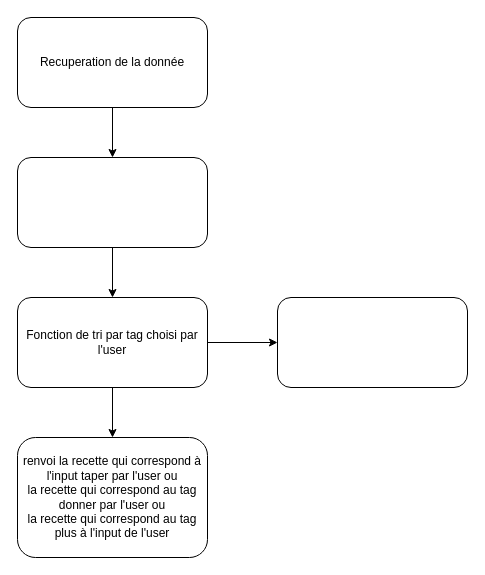
Some shapes in this 485 by 575 pixel diagram are drawn without their labels. The shapes that lost their labels are listed below. From the top down, each one's centre as x and y in pixels, then its label:
[112,202]: Fonction de trie pas input de l'user dans la barre de recherche
[372,342]: fonction de comptagesdes recettes
